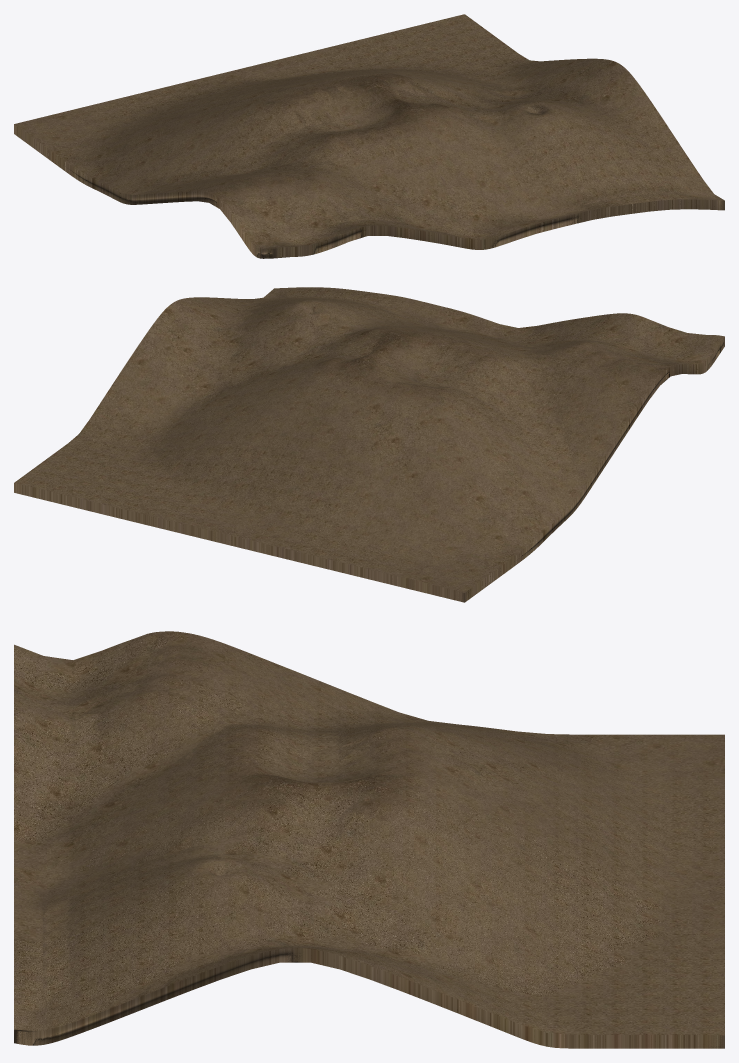
File: chunk_4_0.glb
3 renders of one model, top to bottom at view 1: azimuth 30°, elevation 25°; view 2: azimuth 150°, elevation 25°; view 3: azimuth 270°, elevation 25°, orthographic. The views are drawn at different scales.
Parts seen in each view (by area): view 1: Terrain_L0, Terrain_L2, Terrain_L1; view 2: Terrain_L0, Terrain_L2, Terrain_L1; view 3: Terrain_L0, Terrain_L2, Terrain_L1.
Boxes of the visible parts, x1,y1,x2,y2 form: Terrain_L0: [14, 58, 724, 258]; Terrain_L2: [14, 14, 724, 258]; Terrain_L1: [14, 57, 724, 258]; Terrain_L0: [14, 287, 724, 602]; Terrain_L2: [14, 287, 724, 600]; Terrain_L1: [14, 287, 718, 602]; Terrain_L0: [14, 631, 724, 1048]; Terrain_L2: [14, 632, 724, 1048]; Terrain_L1: [14, 634, 724, 1048].
Size of the model in its own units: 96 by 18.18 by 96.
1 material, 1 textured.
